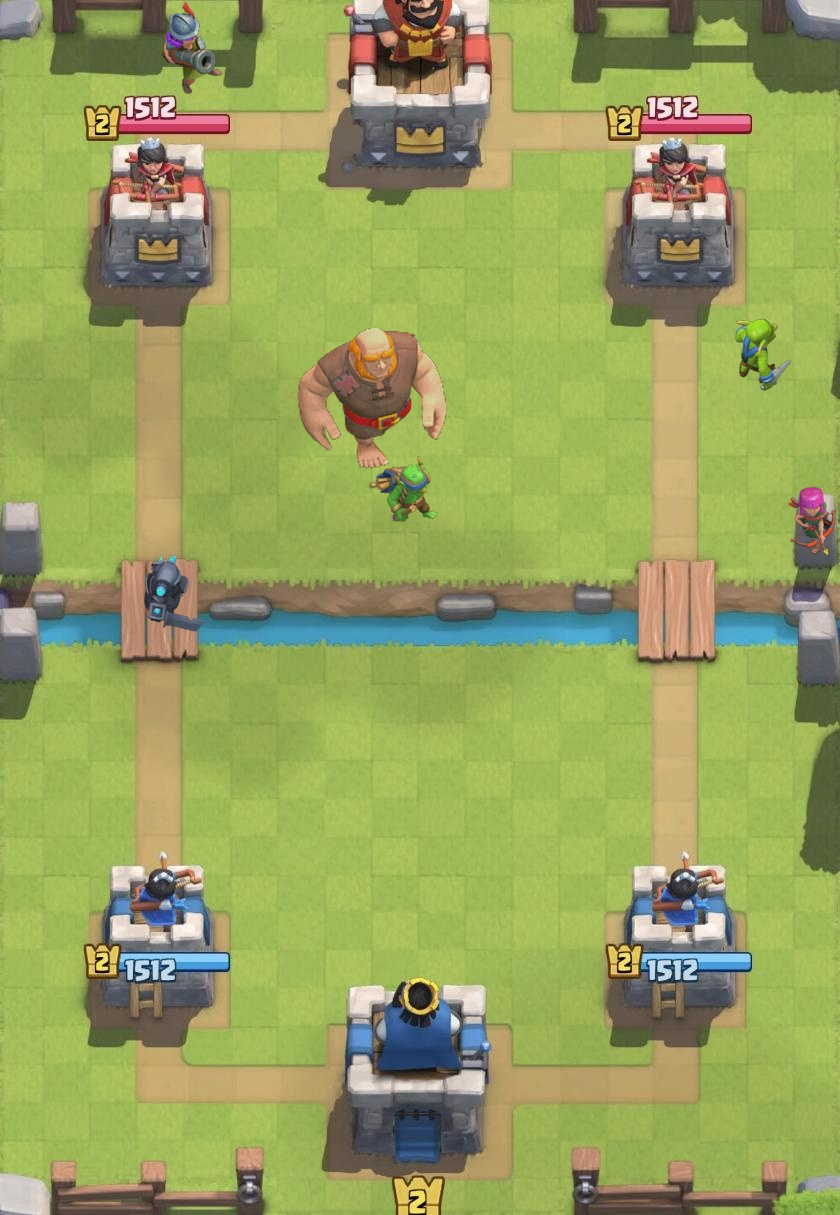archer_enemy: (788, 486, 836, 556)
giant_enemy: (297, 327, 447, 469)
goblin_ally: (735, 318, 791, 391)
mekka_ally: (144, 555, 206, 632)
musketeer_enemy: (161, 1, 222, 94)
spoblin_ally: (369, 456, 437, 522)
